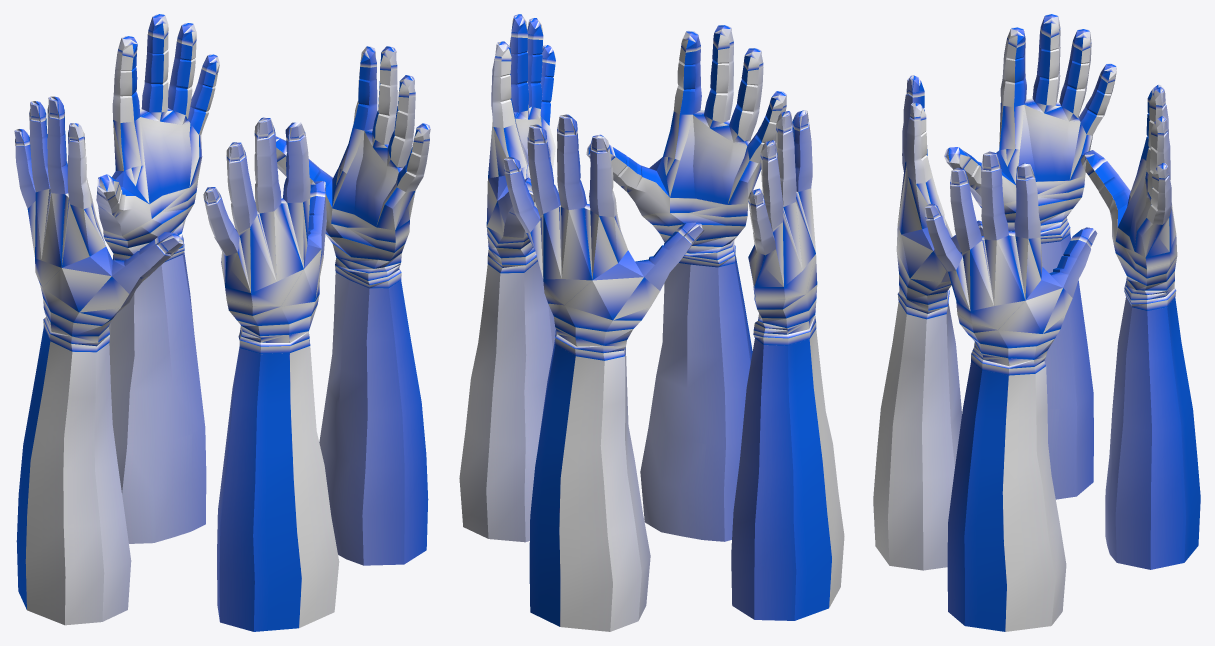
Rendered from brazos.glb.
3 views of the same model, side by side, from view 1: azimuth 30°, elevation 25°; view 2: azimuth 150°, elevation 25°; view 3: azimuth 270°, elevation 25° (orthographic). The views are drawn at different scales.
Visible parts, largest first — view 1: brazos_scenario:Mesh; view 2: brazos_scenario:Mesh; view 3: brazos_scenario:Mesh.
Part boxes in pixels (<box>): brazos_scenario:Mesh: <box>14,14,430,631</box>; brazos_scenario:Mesh: <box>459,14,844,631</box>; brazos_scenario:Mesh: <box>873,14,1200,631</box>.
Size of the model in its own units: 0.4026 by 0.5071 by 0.3243.
1 material, 1 textured.
